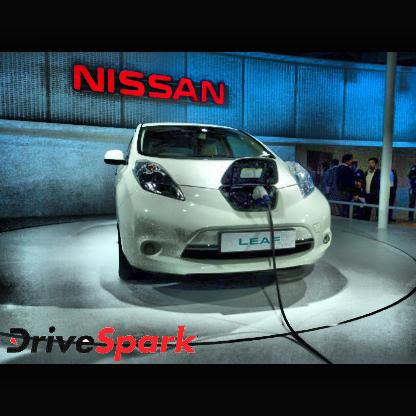Nissan Leaf Hatchback 2012: (103, 122, 336, 284)
